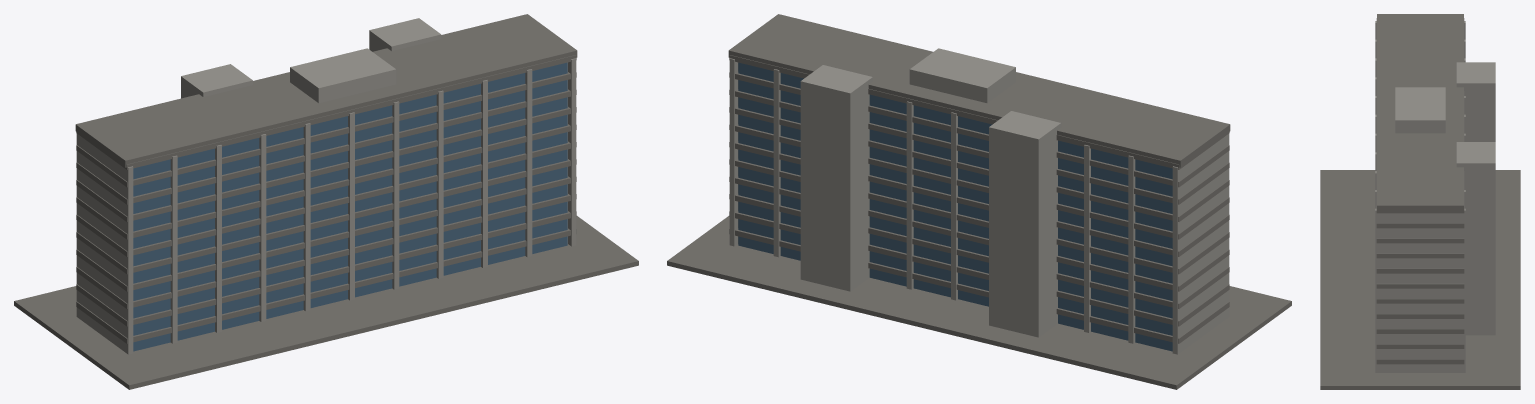
The model's file is post_war_estate_slab.glb.
The picture shows the model from 3 angles, left to right: view 1: azimuth 30°, elevation 25°; view 2: azimuth 150°, elevation 25°; view 3: azimuth 270°, elevation 25°; orthographic projection. The views are drawn at different scales.
Visible parts, largest first — view 1: post_war_estate_slab; view 2: post_war_estate_slab; view 3: post_war_estate_slab.
Part boxes in pixels (x1,y1,x2,y2): post_war_estate_slab: (14, 14, 638, 389); post_war_estate_slab: (667, 14, 1291, 389); post_war_estate_slab: (1320, 14, 1520, 389).
Size of the model in its own units: 92 by 36.8 by 36.
